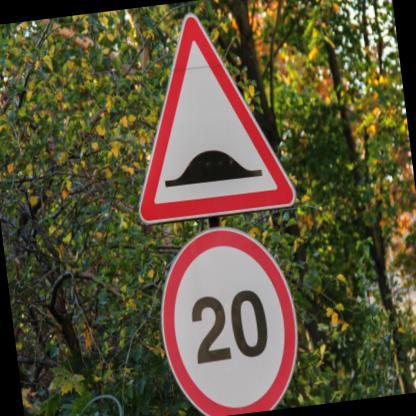road_sign: (139, 14, 294, 223), (162, 228, 296, 415)
